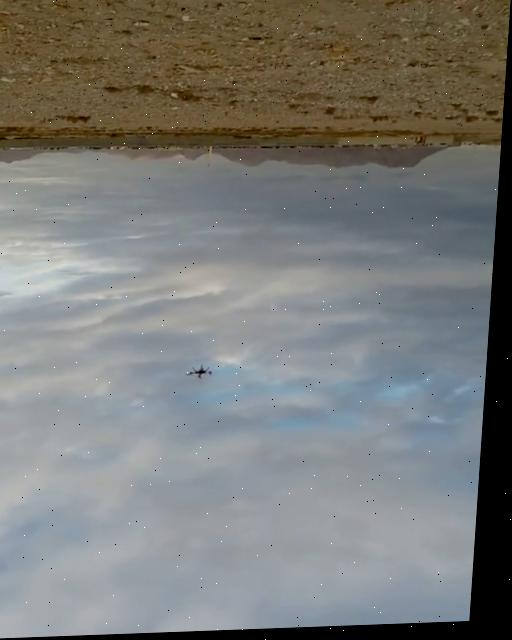drone: (191, 362, 225, 386)
